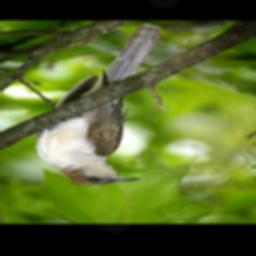Cuckoo: (32, 24, 163, 186)
